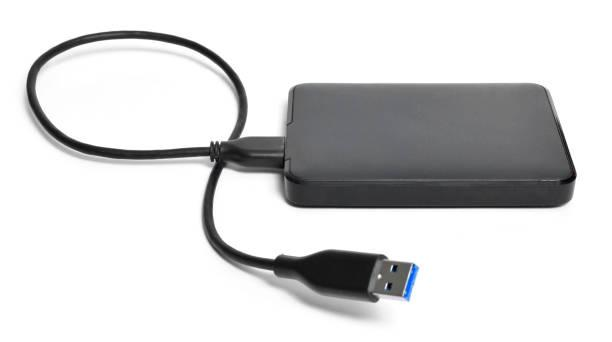HDD: (279, 83, 578, 210)
